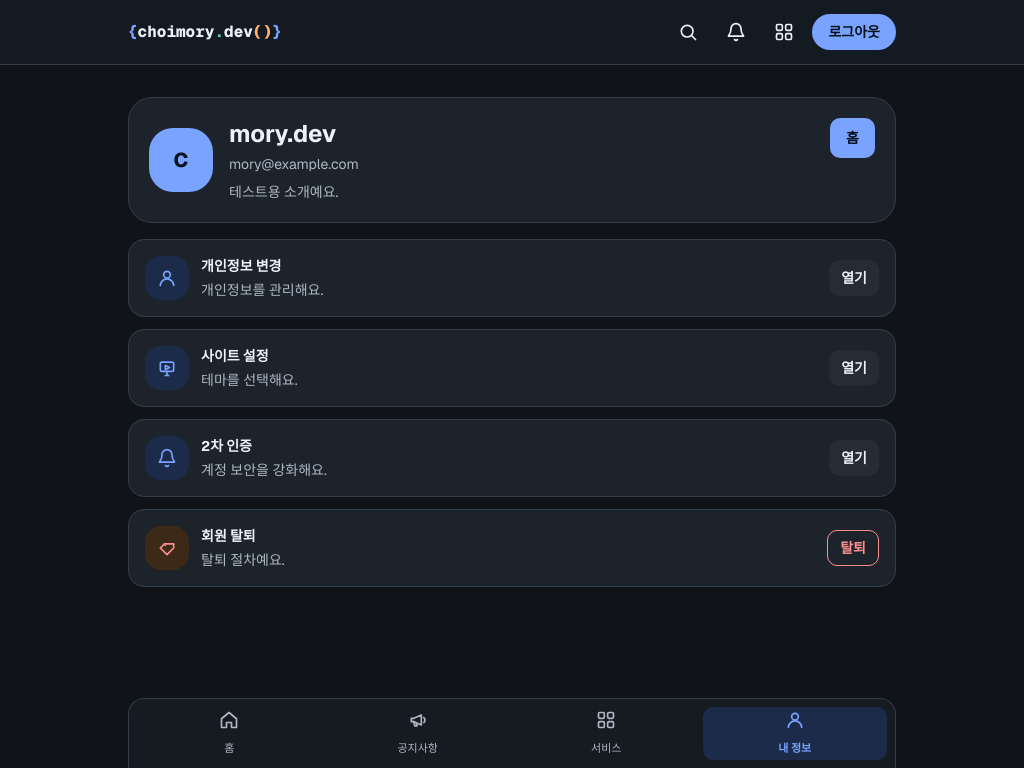
MeView › 사이트 설정 모달은 테마 3종을 보여주고 system이 기본 선택이다
Click the button "사이트 설정 테마를 선택해요. 열기".
click(167, 368)  # box 128,329 -> 896,407
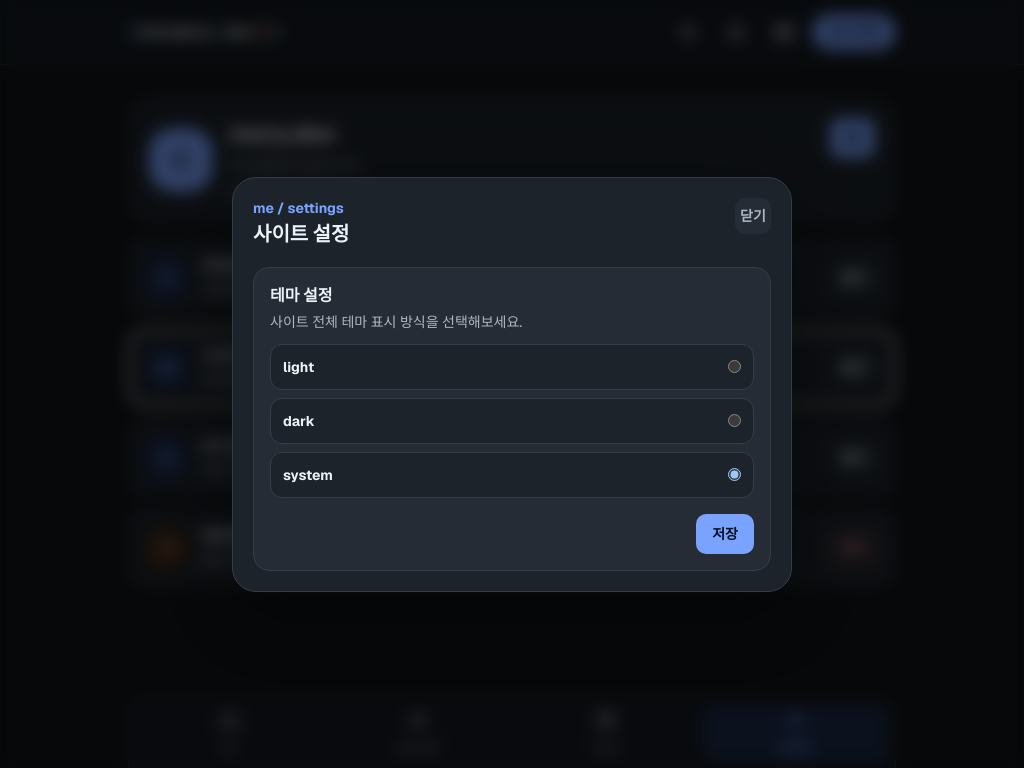
Check: the number of radio buttons is 3, box 728,360 -> 741,373; 728,414 -> 741,427; 728,468 -> 741,481
Check: the radio button labelled "system" is checked, box 728,468 -> 741,481
Check: the radio button labelled "light" is not checked, box 728,360 -> 741,373
